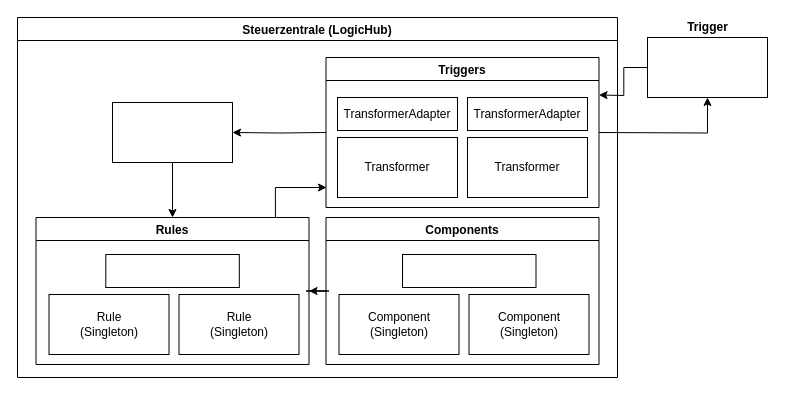
Some shapes in this 785 by 395 pixel diagram are drawn without their labels. Here are the shapes that lost their labels. From the top down, the centre of each, then its label:
pixel 707 67: MQTT
pixel 172 132: State (Singelton)
pixel 172 271: RuleTemplate
pixel 469 271: ComponentTemplate
